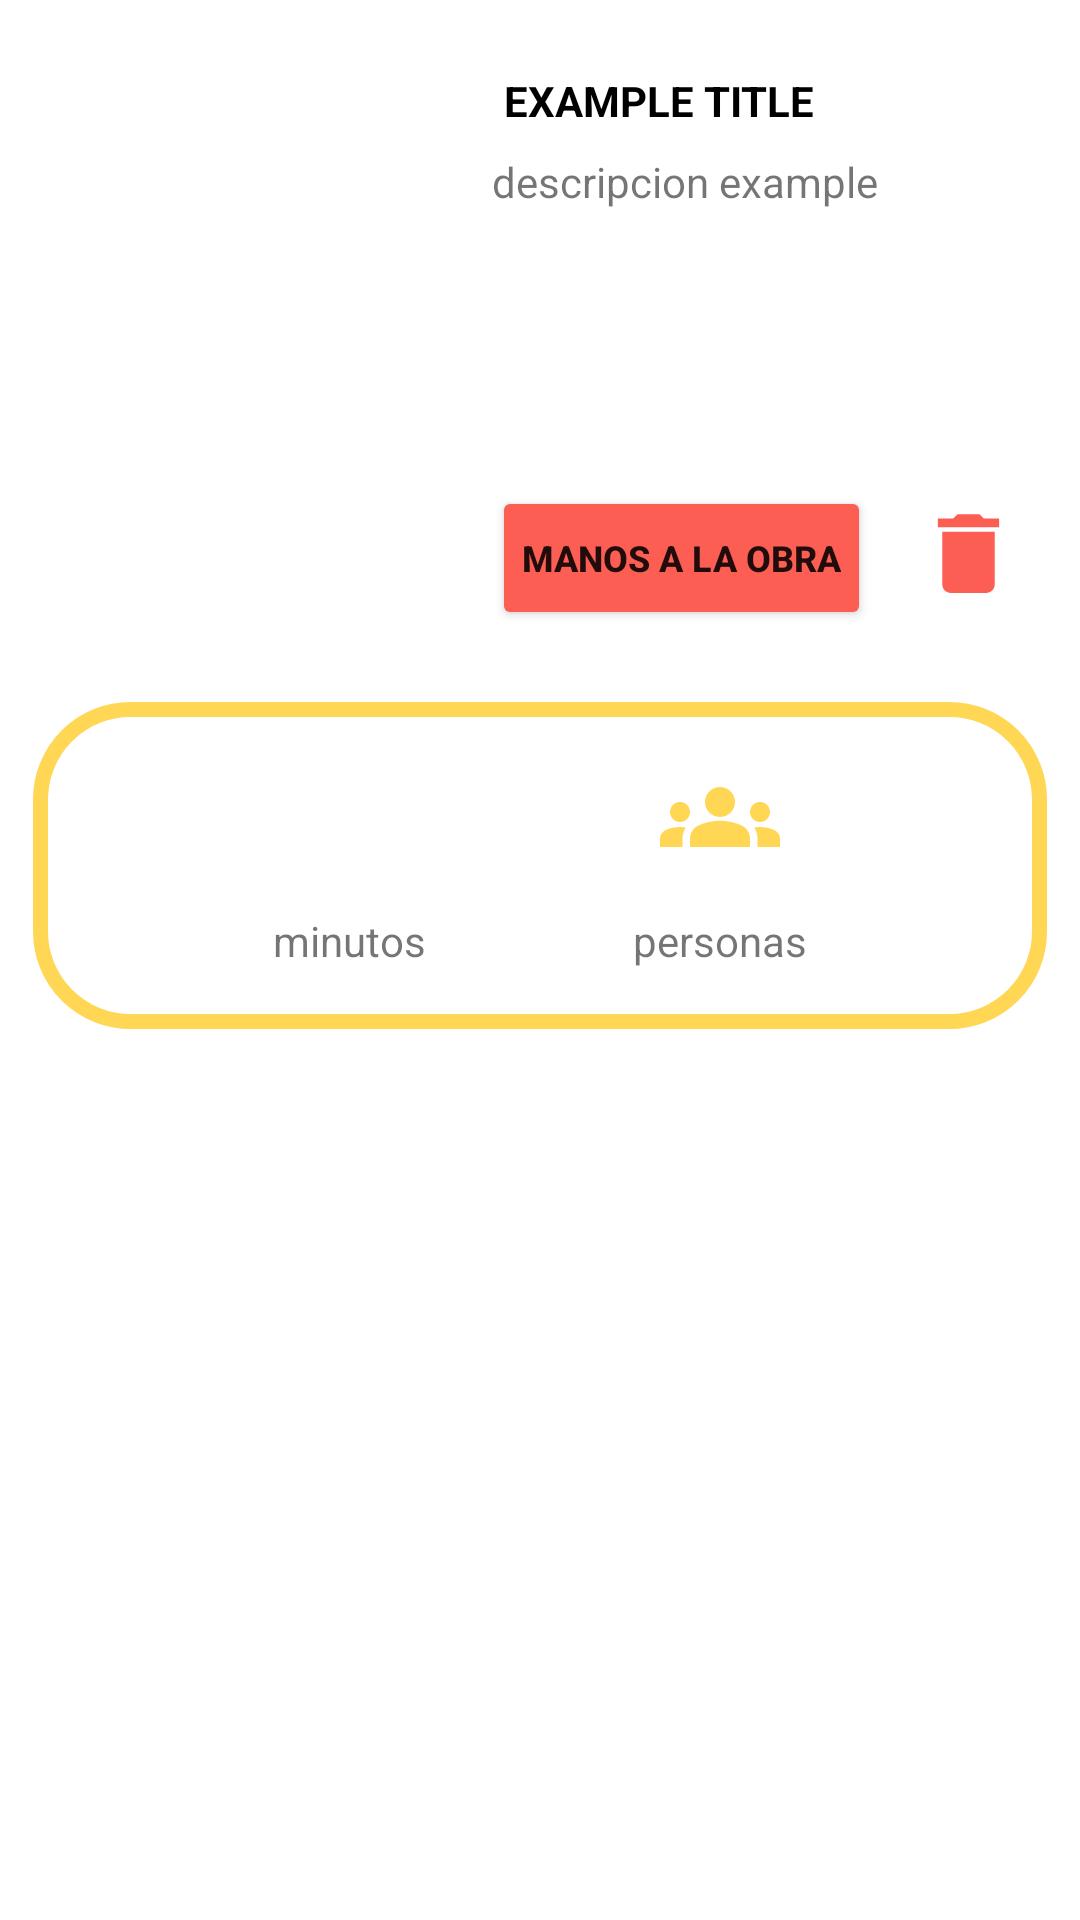

Icons on this 1080px x 1920px Android screen, each with the point to tap as [x,y]:
delete: [968,553]
groups: [720,817]
